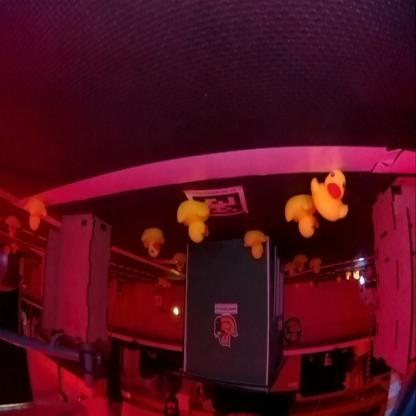Duckie: (311, 172, 347, 220), (285, 196, 317, 238), (176, 204, 209, 244), (24, 198, 46, 232), (142, 229, 164, 257), (244, 232, 266, 260), (5, 218, 19, 238), (292, 256, 307, 272), (174, 254, 186, 272), (310, 258, 320, 272), (353, 272, 359, 280)
QR code: (184, 188, 246, 218)
Traffic light: (173, 307, 178, 315)
